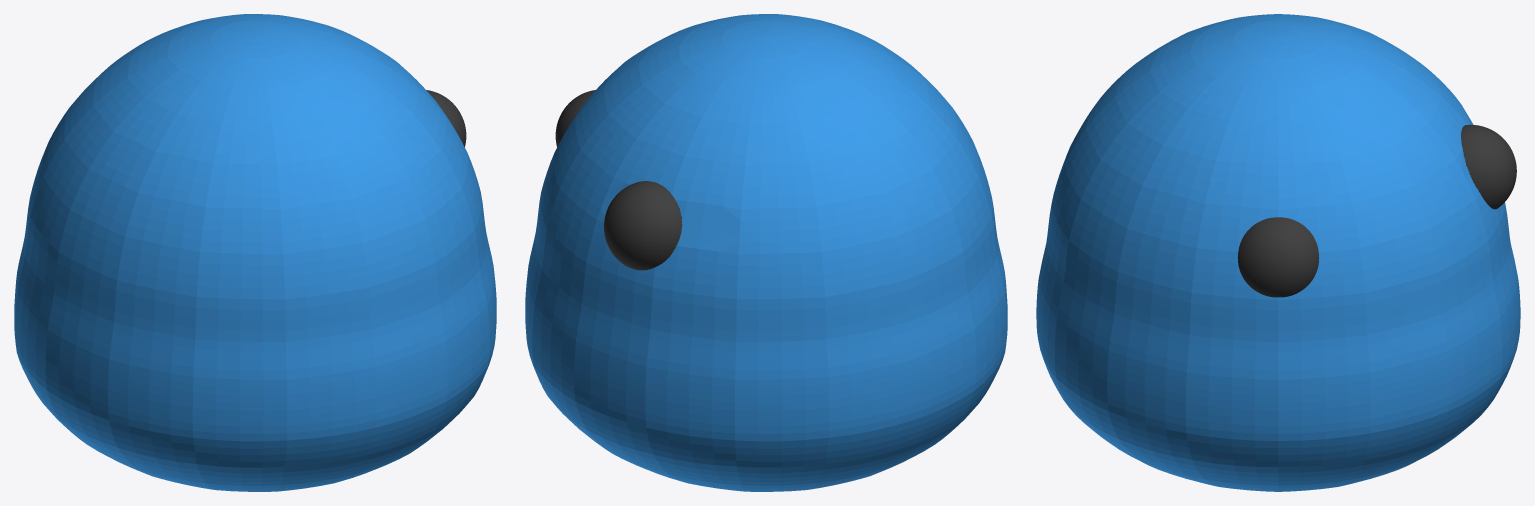
The model's file is top.fbx.
3 renders of one model, left to right at view 1: azimuth 30°, elevation 25°; view 2: azimuth 150°, elevation 25°; view 3: azimuth 270°, elevation 25°, orthographic.
Parts seen in each view (by area): view 1: Sphere; view 2: Sphere; view 3: Sphere.
Boxes of the visible parts, <box> form: Sphere: <box>14,14,496,491</box>; Sphere: <box>525,14,1007,491</box>; Sphere: <box>1036,14,1520,491</box>.
Size of the model in its own units: 209 by 192 by 209.
